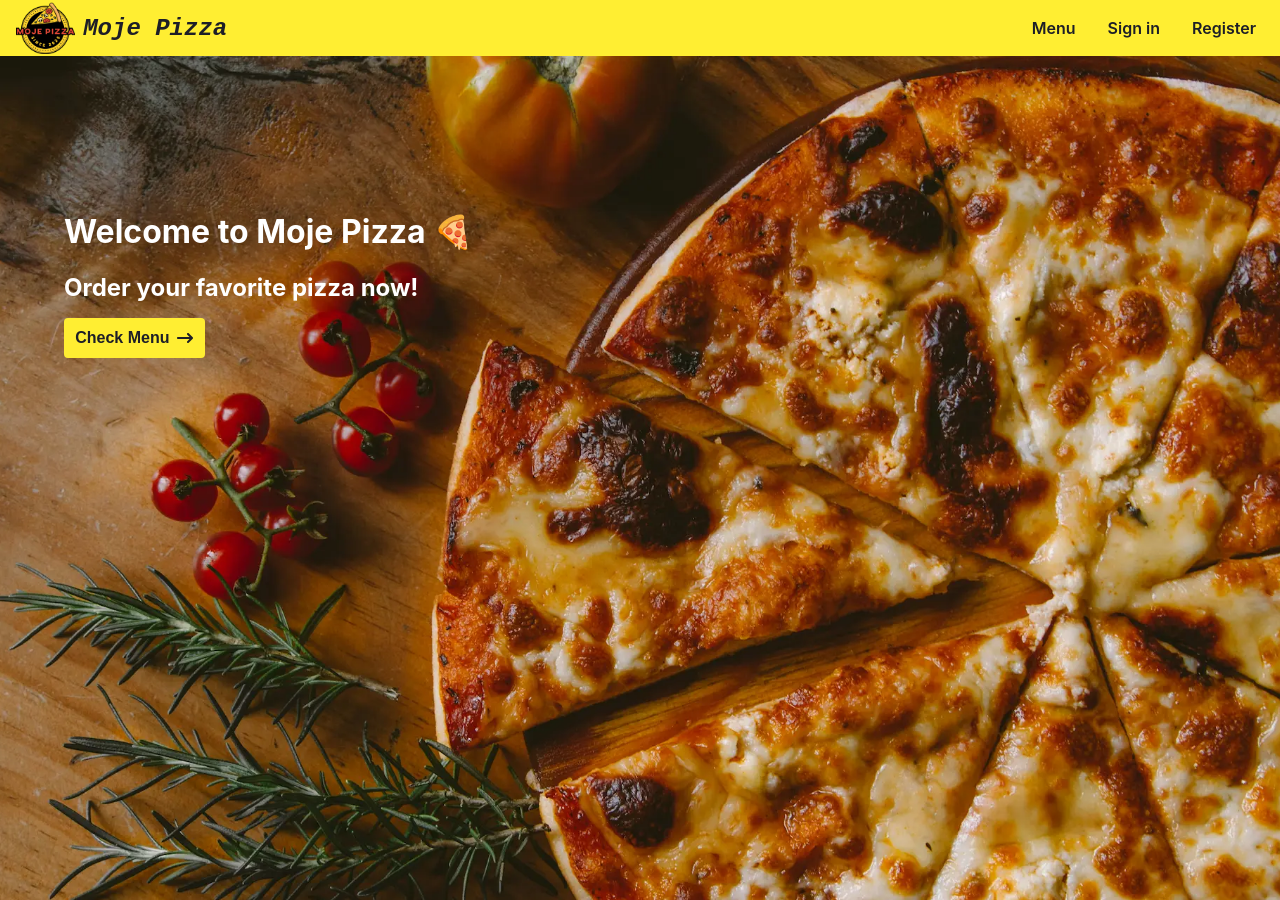
Test case: AppRoute - ROUTE › should render the Signin page when navigating to "/signin"
Click the link "Sign in" at (1134, 28), box [1108,18,1160,38]
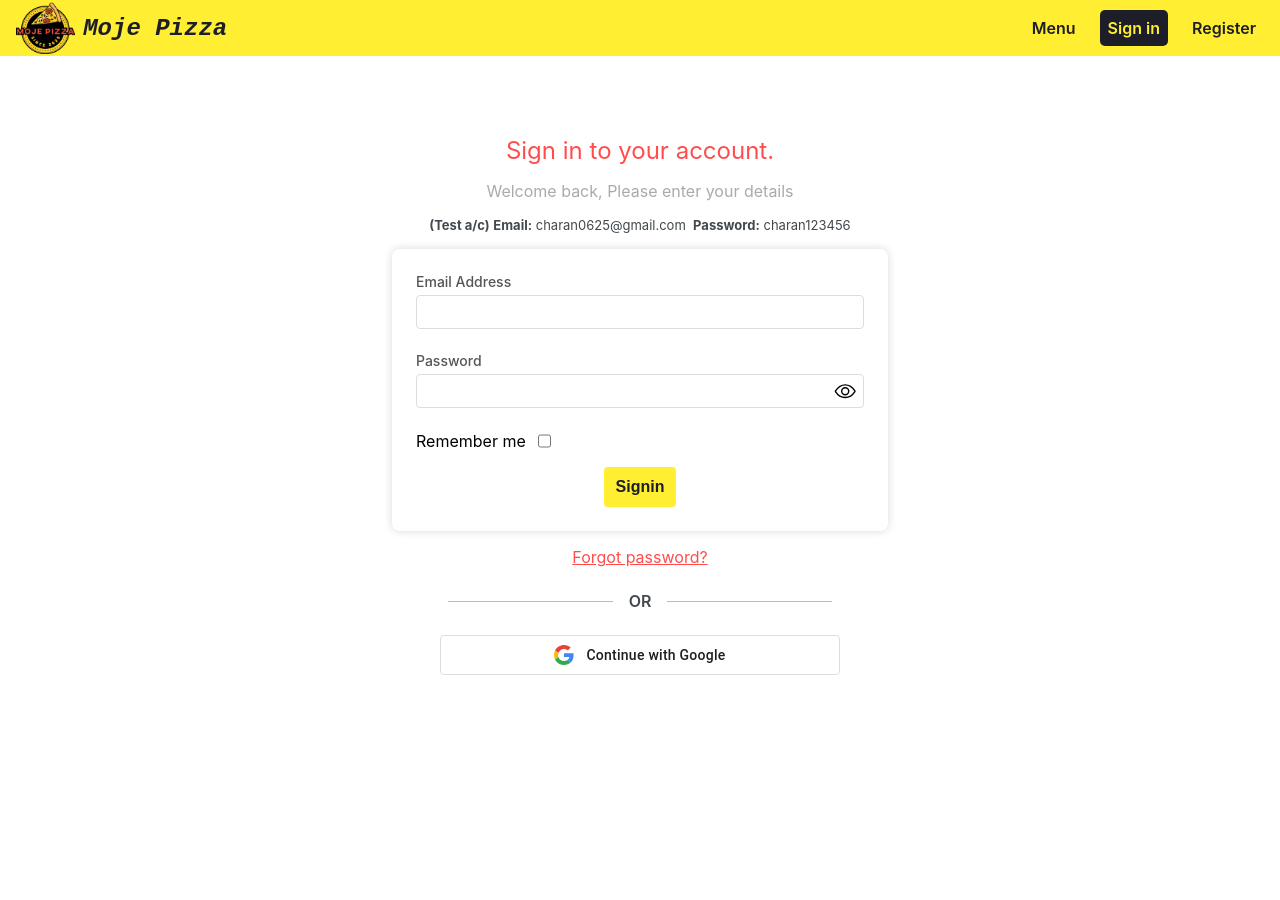
expect the text "Sign in to your account." is shown: met, box [506,136,774,165]
